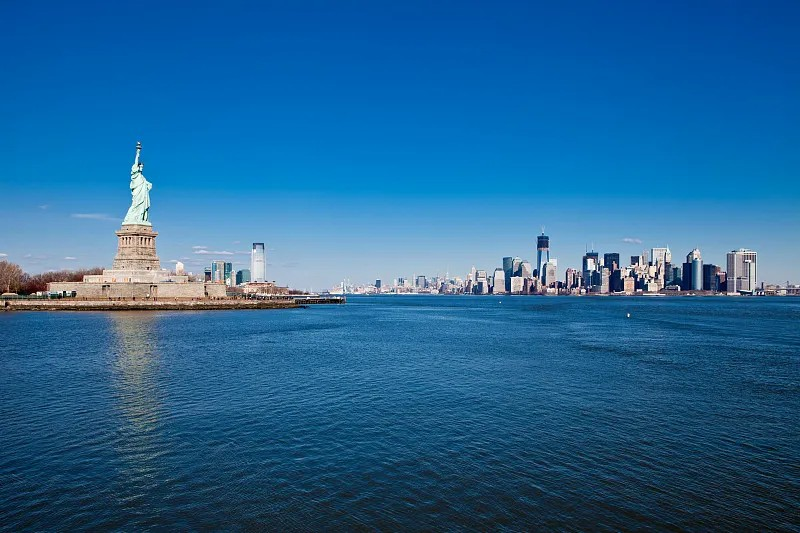SL: (112, 141, 159, 271)
